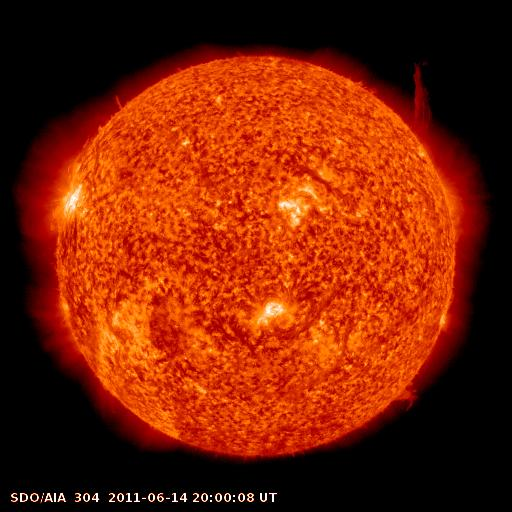prominence: (401, 58, 448, 141), (389, 376, 429, 419)
